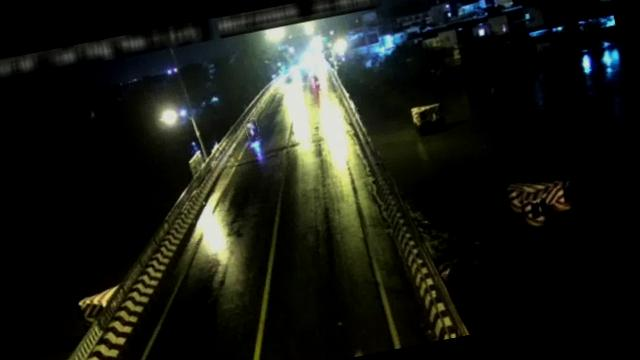Bike: (244, 118, 262, 140)
